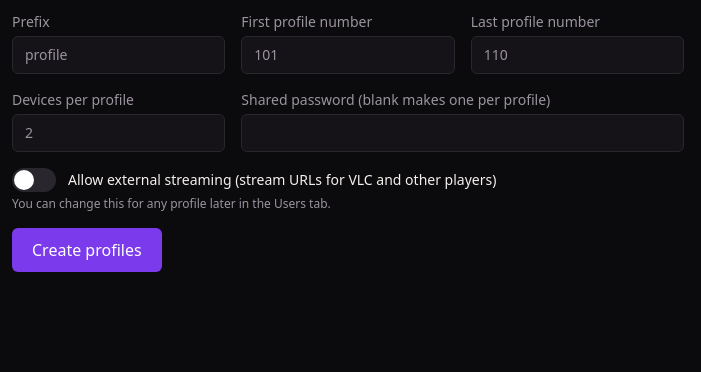
RoomsTab (Profiles) › says so when nothing new was created
Click the button "Create profiles": [87, 250] box [12,228,162,272]
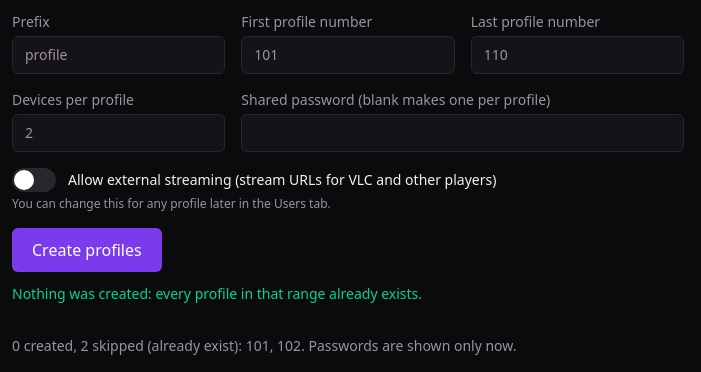
Result: the text "Nothing was created: every profile in that range already exists." is shown at [12,284,422,303]
